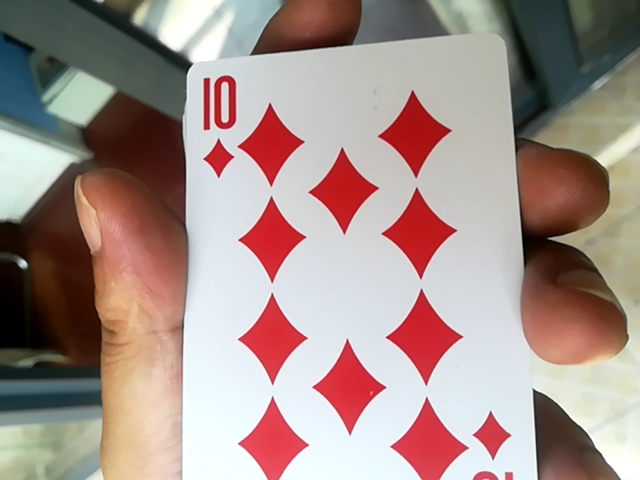fk 10: (166, 13, 539, 475)
